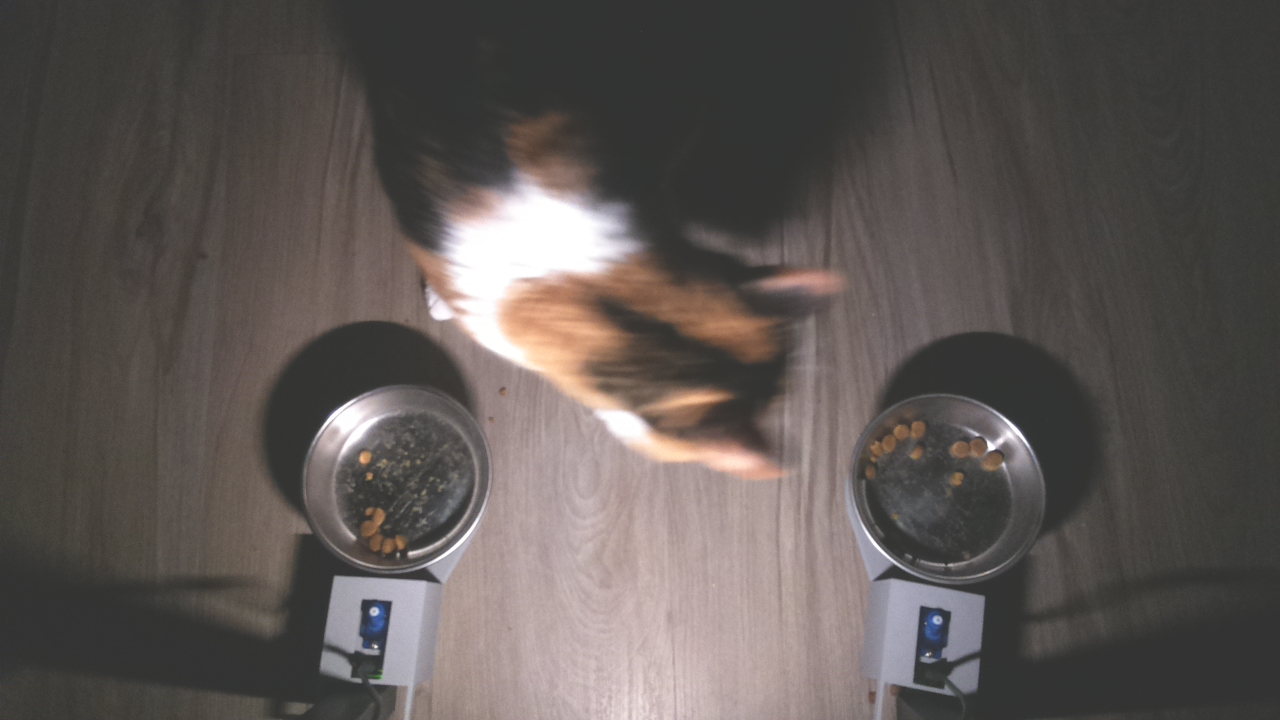bella: (564, 211, 840, 487)
open_bowl: (849, 386, 1055, 592), (301, 378, 494, 576)
